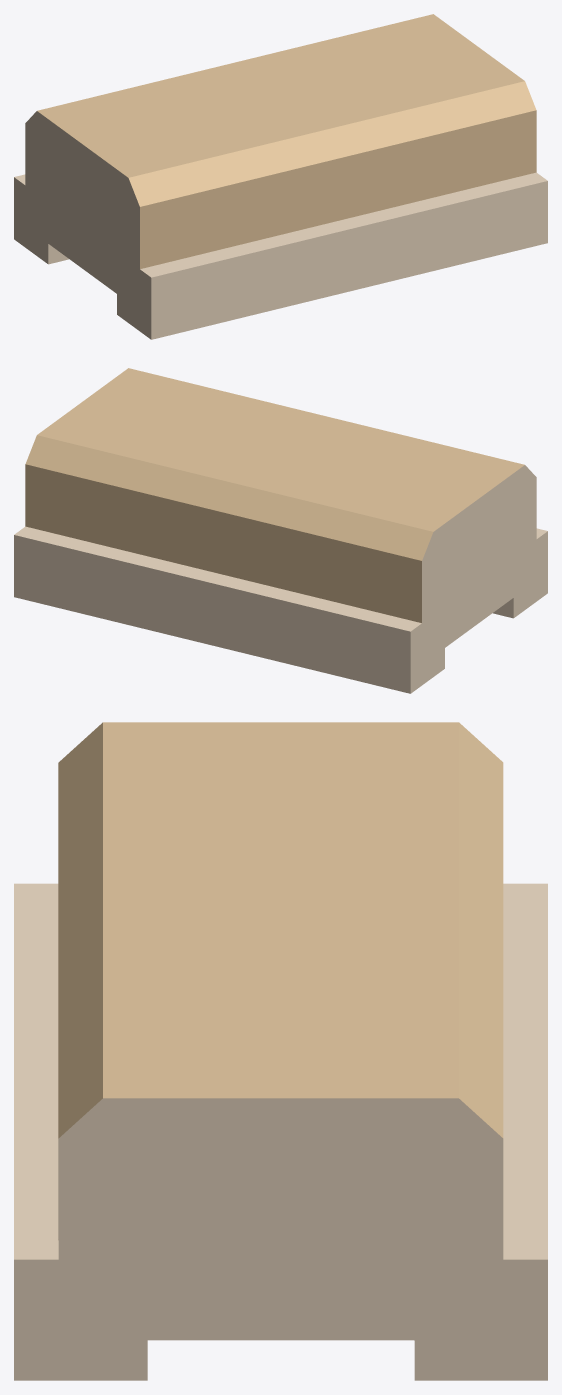
The model's file is opengameart-modular-temple-3d-models-2_28.glb.
3 views of the same model, one above another, from view 1: azimuth 30°, elevation 25°; view 2: azimuth 150°, elevation 25°; view 3: azimuth 270°, elevation 25° (orthographic). The views are drawn at different scales.
Parts seen in each view (by area): view 1: object1; view 2: object1; view 3: object1.
Part boxes in pixels (<box>): object1: <box>14,14,547,339</box>; object1: <box>14,368,547,693</box>; object1: <box>14,722,547,1380</box>.
Size of the model in its own units: 1 by 0.35 by 0.6.
